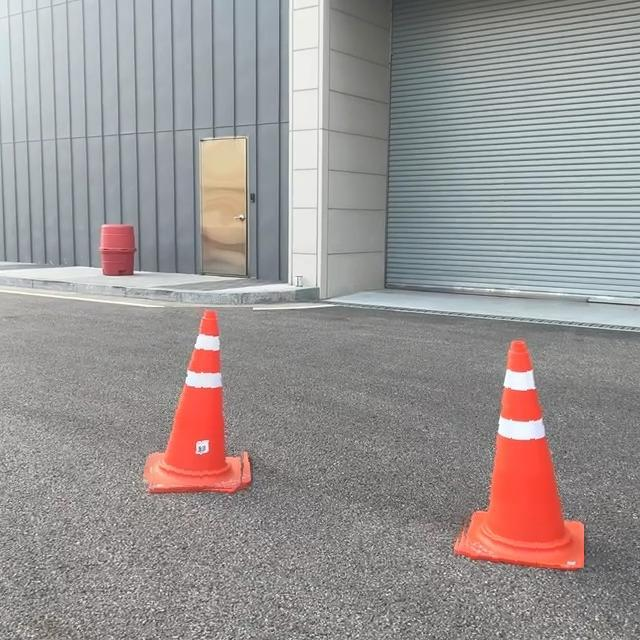fallen_object: (423, 349, 617, 572), (106, 296, 266, 498)
